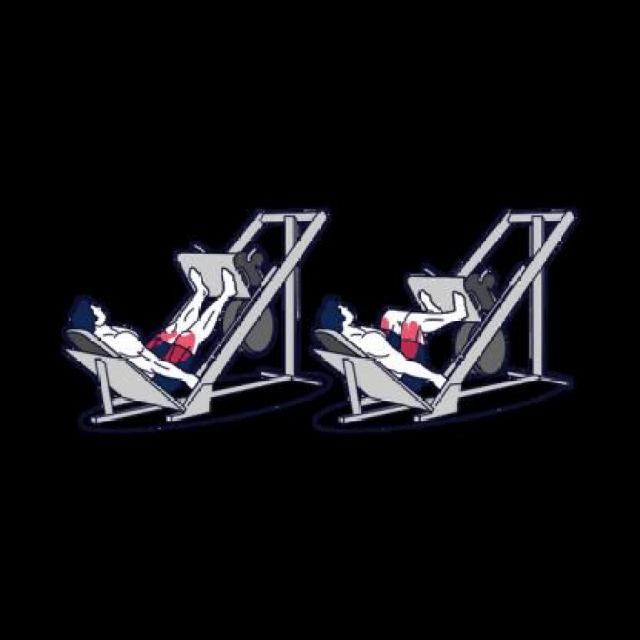leg press: (30, 131, 328, 471), (310, 194, 596, 438)
